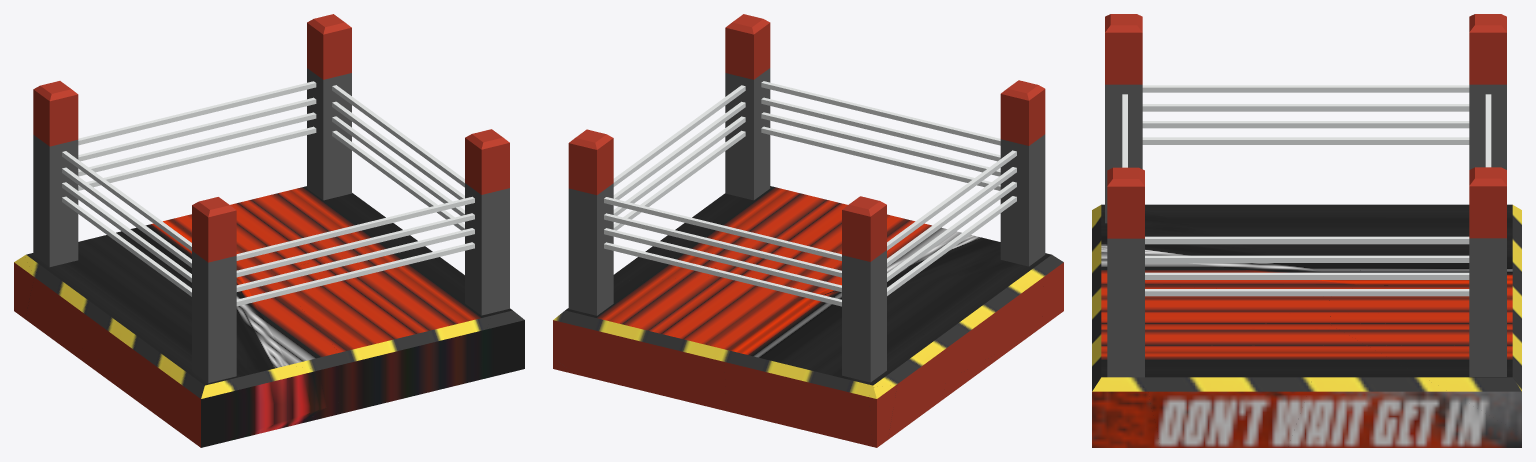
File: VCL_CAIDEOGIDAY.fbx
3 views of the same model, side by side, from view 1: azimuth 30°, elevation 25°; view 2: azimuth 150°, elevation 25°; view 3: azimuth 270°, elevation 25° (orthographic). The views are drawn at different scales.
Visible parts, largest first — view 1: Mesh_san_kickfit_cell.004, Mesh_san_kickfit_cell.003, Mesh_san_kickfit_cell.006, Mesh_san_kickfit_cell.002, Mesh_san_kickfit.019, Mesh_san_kickfit.001, Mesh_san_kickfit.018, Mesh_san_kickfit.020, Mesh_san_kickfit_cell.008, Mesh_san_kickfit_cell.005, Mesh_san_kickfit.004, Mesh_san_kickfit.005 (+26 smaller); view 2: Mesh_san_kickfit_cell.008, Mesh_san_kickfit_cell.006, Mesh_san_kickfit_cell.003, Mesh_san_kickfit_cell.004, Mesh_san_kickfit.018, Mesh_san_kickfit.020, Mesh_san_kickfit.019, Mesh_san_kickfit.001, Mesh_san_kickfit_cell.001, Mesh_san_kickfit.003, Mesh_san_kickfit.004, Mesh_san_kickfit.002 (+20 smaller); view 3: Mesh_san_kickfit_cell.004, Mesh_san_kickfit_cell.001, Mesh_san_kickfit_cell.003, Mesh_san_kickfit_cell.008, Mesh_san_kickfit.001, Mesh_san_kickfit.020, Mesh_san_kickfit_cell.006, Mesh_san_kickfit.019, Mesh_san_kickfit.018, Mesh_san_kickfit_cell.005, Mesh_san_kickfit.009, Mesh_san_kickfit.008 (+9 smaller).
Boxes of the visible parts, x1=… form: Mesh_san_kickfit_cell.004: x1=271, y1=246, x2=492, y2=412; Mesh_san_kickfit_cell.003: x1=83, y1=268, x2=341, y2=431; Mesh_san_kickfit_cell.006: x1=24, y1=219, x2=191, y2=357; Mesh_san_kickfit_cell.002: x1=179, y1=365, x2=326, y2=447; Mesh_san_kickfit.019: x1=192, y1=197, x2=236, y2=383; Mesh_san_kickfit.001: x1=465, y1=129, x2=509, y2=315; Mesh_san_kickfit.018: x1=33, y1=81, x2=78, y2=266; Mesh_san_kickfit.020: x1=307, y1=14, x2=351, y2=200; Mesh_san_kickfit_cell.008: x1=171, y1=186, x2=372, y2=272; Mesh_san_kickfit_cell.005: x1=479, y1=308, x2=524, y2=379; Mesh_san_kickfit.004: x1=236, y1=228, x2=474, y2=291; Mesh_san_kickfit.005: x1=236, y1=242, x2=474, y2=306; Mesh_san_kickfit_cell.008: x1=553, y1=276, x2=794, y2=411; Mesh_san_kickfit_cell.006: x1=724, y1=301, x2=945, y2=446; Mesh_san_kickfit_cell.003: x1=788, y1=223, x2=1043, y2=381; Mesh_san_kickfit_cell.004: x1=652, y1=186, x2=915, y2=286; Mesh_san_kickfit.018: x1=842, y1=196, x2=886, y2=382; Mesh_san_kickfit.020: x1=568, y1=129, x2=613, y2=315; Mesh_san_kickfit.019: x1=1000, y1=80, x2=1045, y2=266; Mesh_san_kickfit.001: x1=725, y1=14, x2=770, y2=200; Mesh_san_kickfit_cell.001: x1=553, y1=247, x2=726, y2=374; Mesh_san_kickfit.003: x1=761, y1=97, x2=1000, y2=161; Mesh_san_kickfit.004: x1=761, y1=112, x2=1000, y2=176; Mesh_san_kickfit.002: x1=761, y1=81, x2=1000, y2=145; Mesh_san_kickfit_cell.004: x1=1092, y1=280, x2=1330, y2=447; Mesh_san_kickfit_cell.001: x1=1288, y1=325, x2=1521, y2=447; Mesh_san_kickfit_cell.003: x1=1092, y1=204, x2=1362, y2=297; Mesh_san_kickfit_cell.008: x1=1329, y1=285, x2=1521, y2=434; Mesh_san_kickfit.001: x1=1107, y1=167, x2=1144, y2=377; Mesh_san_kickfit.020: x1=1469, y1=167, x2=1506, y2=376; Mesh_san_kickfit_cell.006: x1=1359, y1=204, x2=1521, y2=295; Mesh_san_kickfit.019: x1=1105, y1=14, x2=1142, y2=223; Mesh_san_kickfit.018: x1=1469, y1=14, x2=1506, y2=169; Mesh_san_kickfit_cell.005: x1=1092, y1=365, x2=1160, y2=447; Mesh_san_kickfit.009: x1=1145, y1=289, x2=1469, y2=296; Mesh_san_kickfit.008: x1=1145, y1=272, x2=1469, y2=279.
Size of the model in its own units: 37.97 by 25.52 by 37.97.
